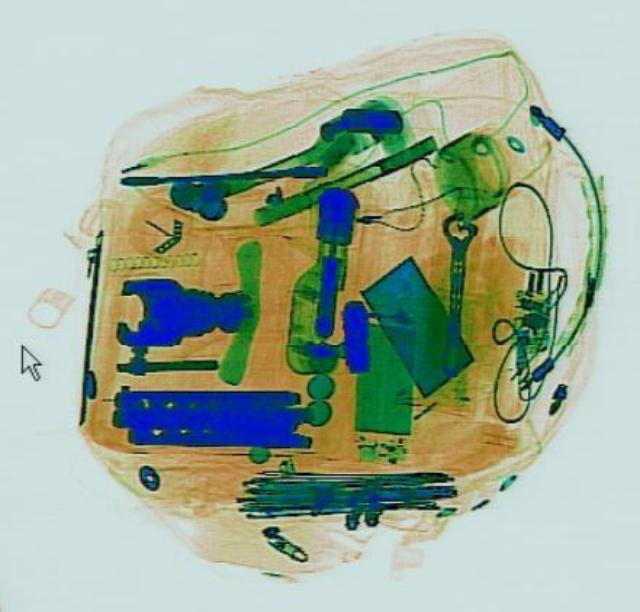Wrench: (430, 209, 476, 373)
